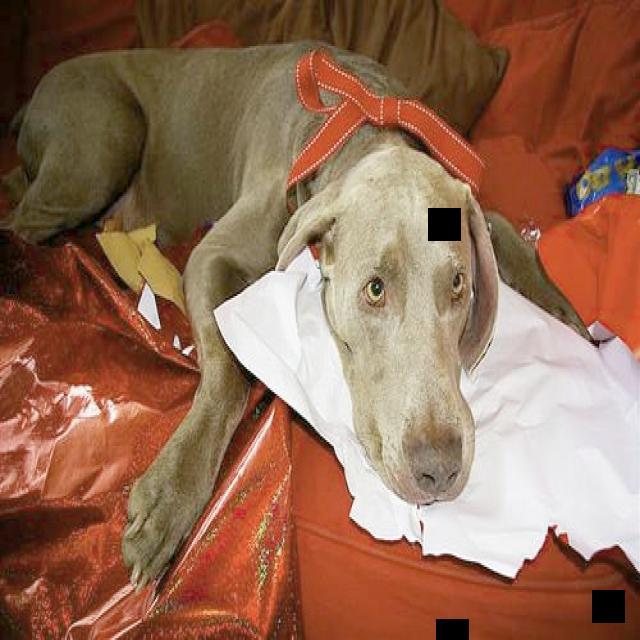adult_dog: (5, 32, 593, 595)
